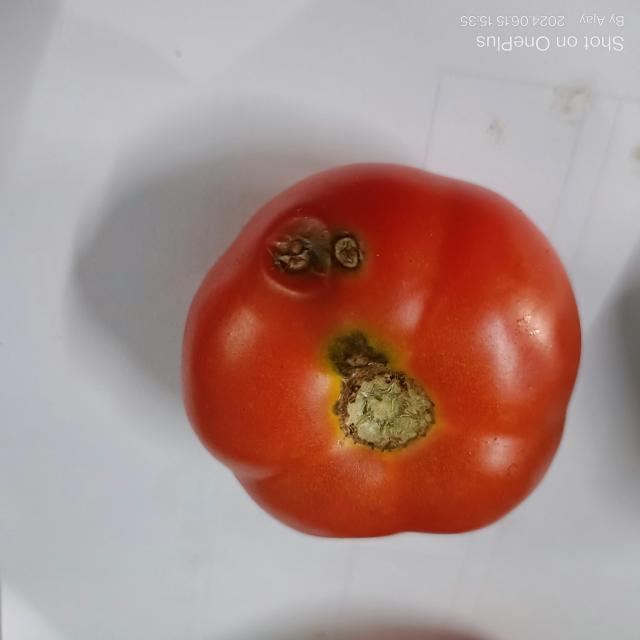Botrytis: (270, 212, 374, 294), (328, 335, 388, 374)
